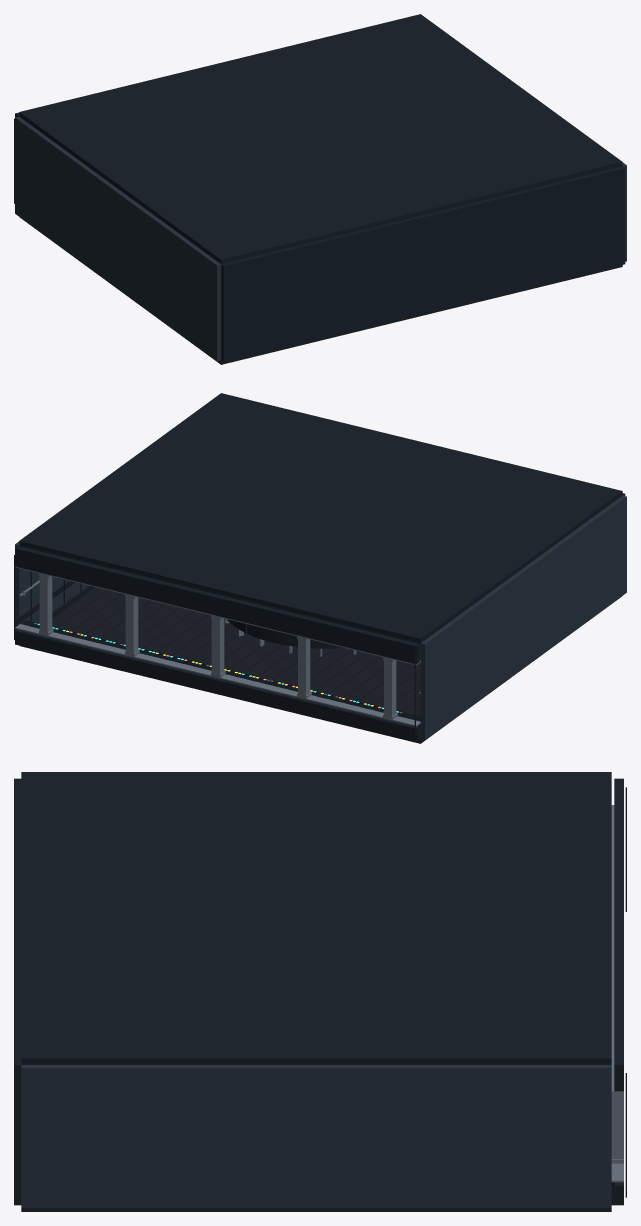
The model's file is bridge.glb.
The picture shows the model from 3 angles, top to bottom: view 1: azimuth 30°, elevation 25°; view 2: azimuth 150°, elevation 25°; view 3: azimuth 270°, elevation 25°; orthographic projection. The views are drawn at different scales.
Visible parts, largest first — view 1: Bridge; view 2: Bridge; view 3: Bridge.
Boxes of the visible parts, x1,y1,x2,y2 form: Bridge: (14,14,626,364); Bridge: (14,393,626,743); Bridge: (14,772,626,1211).
Bounding box in the file's own units: 28.6 × 7 × 25.33.
